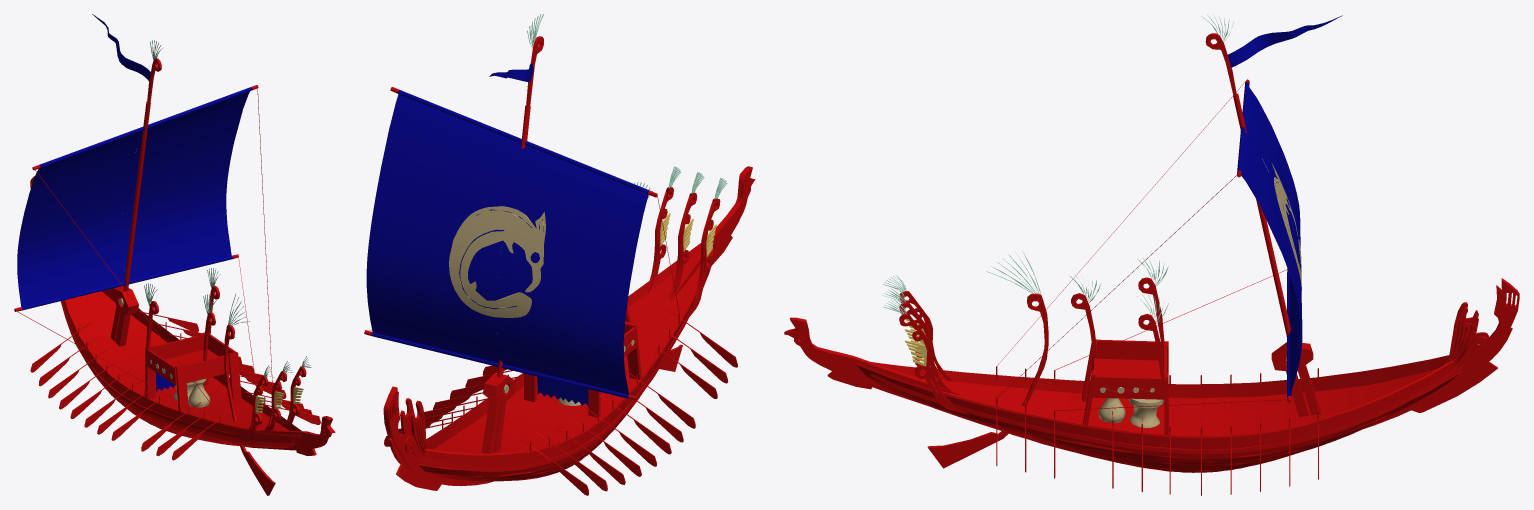
Rendered from thuyen-chien-dong-son.glb.
The picture shows the model from 3 angles, left to right: view 1: azimuth 30°, elevation 25°; view 2: azimuth 150°, elevation 25°; view 3: azimuth 270°, elevation 25°; orthographic projection. The views are drawn at different scales.
Visible parts, largest first — view 1: Body1_Opaque(143,0,0)_0; view 2: Body1_Opaque(143,0,0)_0; view 3: Body1_Opaque(143,0,0)_0.
Boxes of the visible parts, x1,y1,x2,y2 form: Body1_Opaque(143,0,0)_0: (14,14,335,495); Body1_Opaque(143,0,0)_0: (364,14,755,495); Body1_Opaque(143,0,0)_0: (784,15,1519,495).
Bounding box in the file's own units: 4.07 × 6.48 × 9.5.
2 materials, 2 textured.
